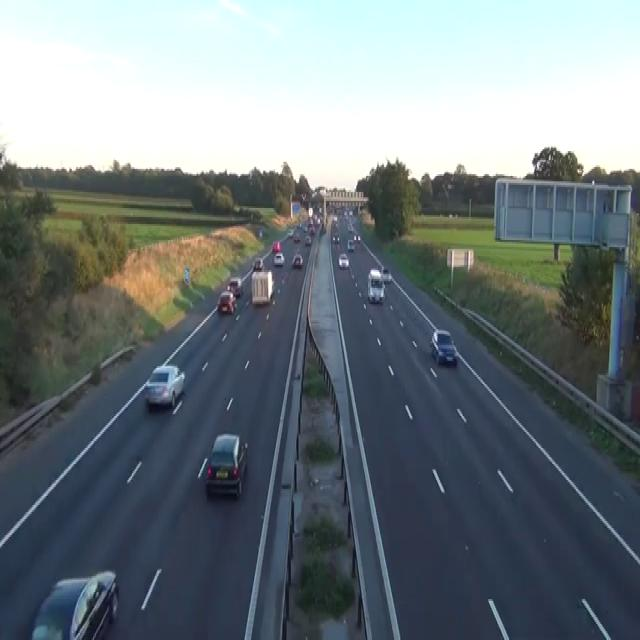Car: (31, 569, 119, 638), (205, 432, 248, 498), (145, 364, 185, 409), (430, 327, 457, 366), (217, 290, 237, 313), (226, 277, 243, 297), (380, 265, 391, 283), (338, 252, 348, 268), (273, 251, 284, 265), (252, 256, 263, 270), (292, 252, 303, 266), (271, 240, 280, 252), (347, 238, 354, 251), (304, 235, 311, 245), (332, 233, 339, 242), (293, 233, 300, 242), (308, 226, 315, 234), (347, 222, 353, 231), (354, 233, 360, 242), (302, 224, 308, 233), (287, 228, 293, 236), (321, 224, 326, 233), (333, 214, 337, 222), (258, 228, 262, 236), (348, 210, 352, 217)
Truck: (251, 268, 274, 304), (367, 268, 385, 302)
